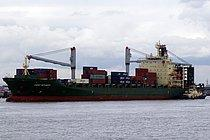Ship: (3, 45, 197, 105)
